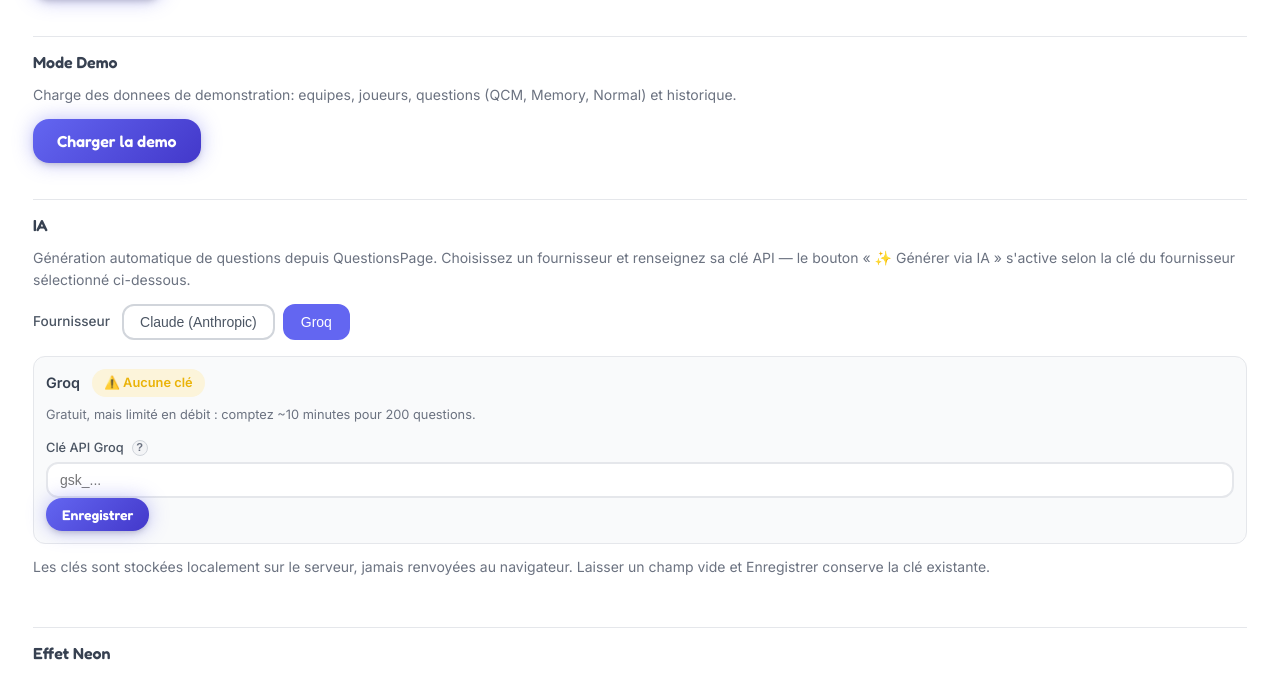
Test: ConfigPage — Sélecteur de fournisseur IA, sélection manuelle uniquement (bugfix/config-api-key-help, commit 1d5de9f) › clicking "Claude (Anthropic)" while Groq is active switches back and persists the choice
The width and height of the screenshot is (1280, 677).
(page scrolled)
Expected: the text "Clé API Groq" is shown, 46,440 -> 124,455
Click the button "Claude (Anthropic)" at (198, 322), box 122,304 -> 275,340
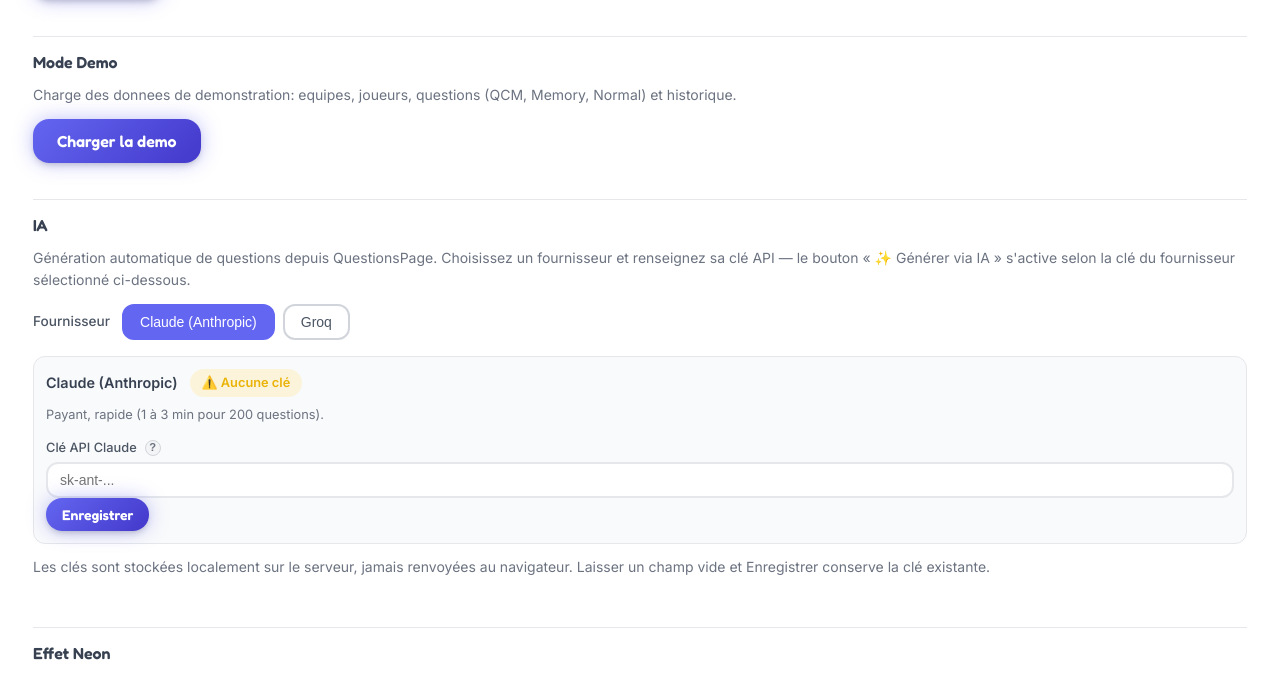
Expected: the text "Clé API Claude" is shown, 46,440 -> 137,455
Expected: the text "Clé API Groq" is gone
